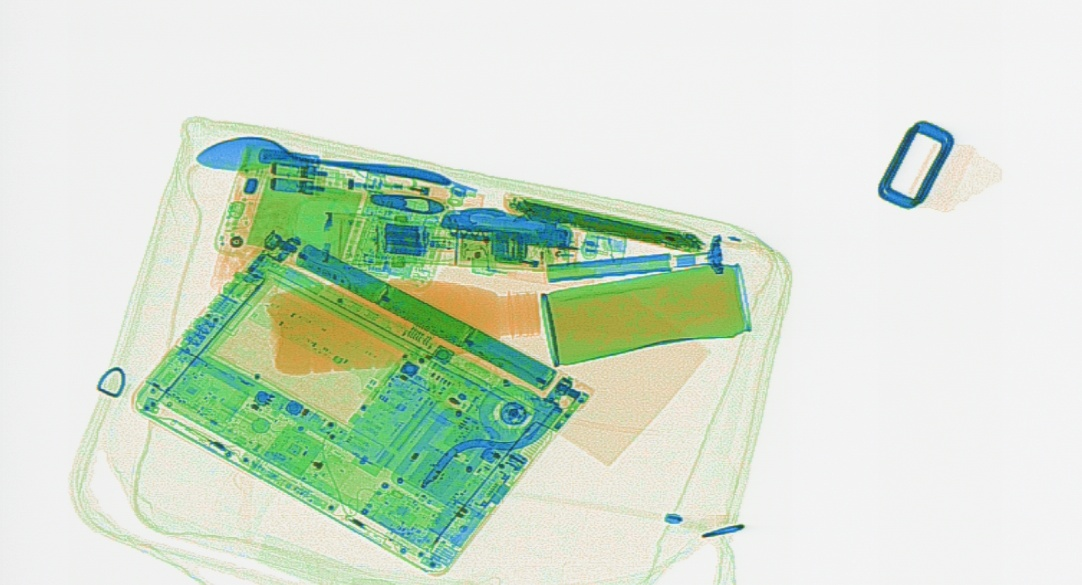knife: (442, 206, 570, 252)
lighter: (468, 242, 596, 291), (362, 169, 486, 213)
